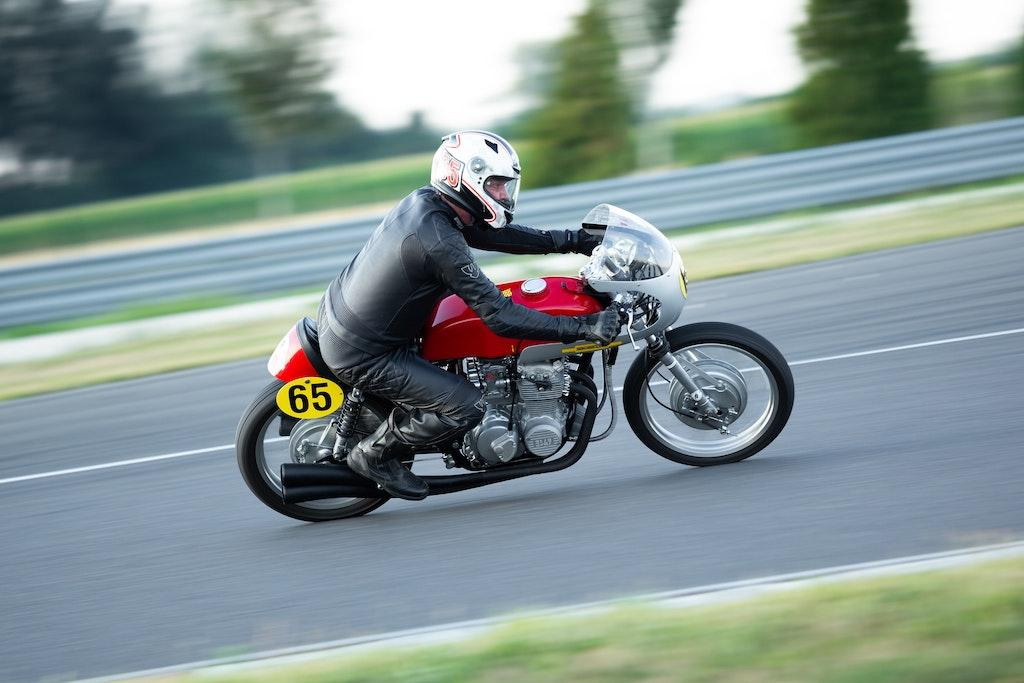helmet: (430, 128, 522, 234)
